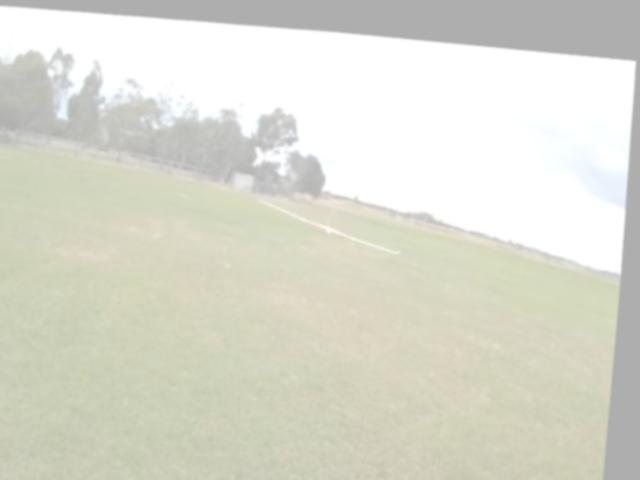uav: (249, 179, 415, 261)
